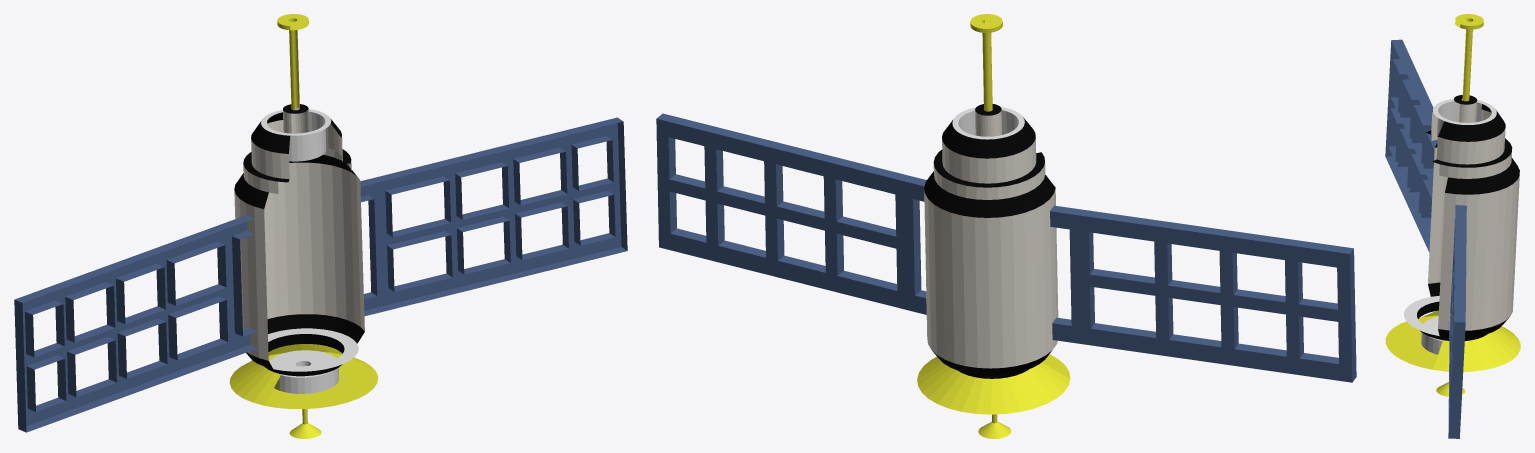
The model's file is SateliteRealista 1.fbx.
The picture shows the model from 3 angles, left to right: view 1: azimuth 30°, elevation 25°; view 2: azimuth 150°, elevation 25°; view 3: azimuth 270°, elevation 25°; orthographic projection. The views are drawn at different scales.
Parts seen in each view (by area): view 1: Cylinder; view 2: Cylinder; view 3: Cylinder.
Part boxes in pixels (x1,y1,x2,y2): Cylinder: (14,14,627,438); Cylinder: (656,14,1356,438); Cylinder: (1385,14,1520,438).
Size of the model in its own units: 392 by 239 by 78.94.
